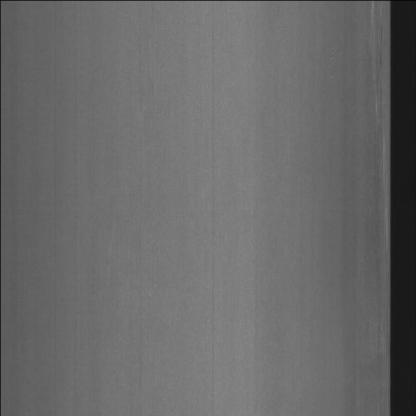silk_spot: (364, 5, 389, 380)
